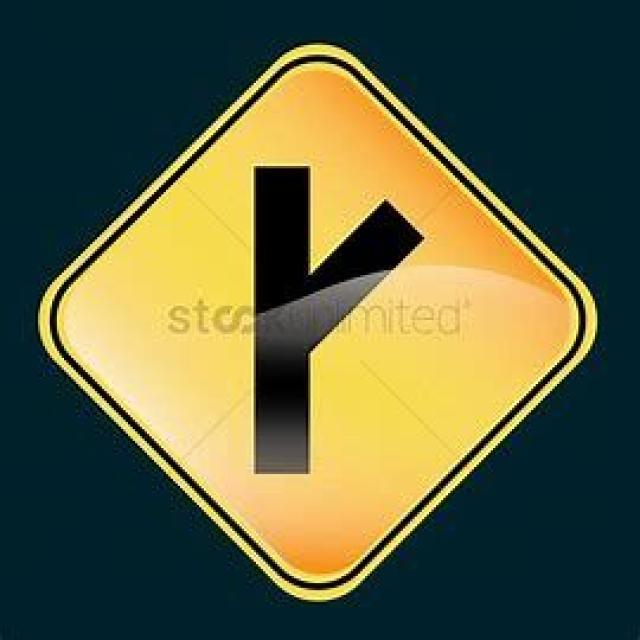light_traffic: (34, 43, 598, 602)
